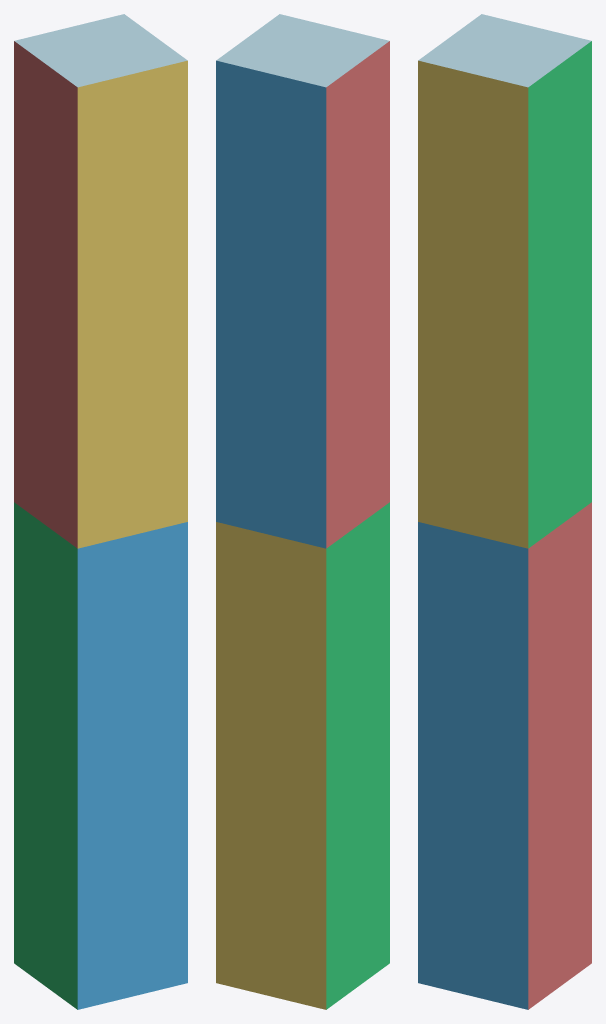
3 renders of one model, left to right at view 1: azimuth 30°, elevation 25°; view 2: azimuth 150°, elevation 25°; view 3: azimuth 330°, elevation 25°, orthographic.
Parts seen in each view (by area): view 1: arm2, arm1; view 2: arm2, arm1; view 3: arm2, arm1.
Part boxes in pixels (x1,y1,x2,y2): arm2: (14,14,187,548); arm1: (14,502,187,1009); arm2: (216,14,389,548); arm1: (216,502,389,1009); arm2: (418,14,591,548); arm1: (418,502,591,1009).
Bounding box in the file's own units: 0.125 × 1 × 0.125.
1 material, 1 textured.
